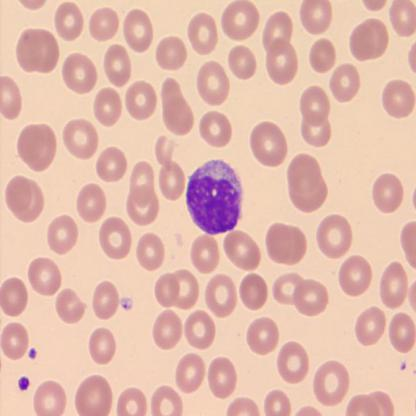Myelocyte: (185, 159, 245, 237)
